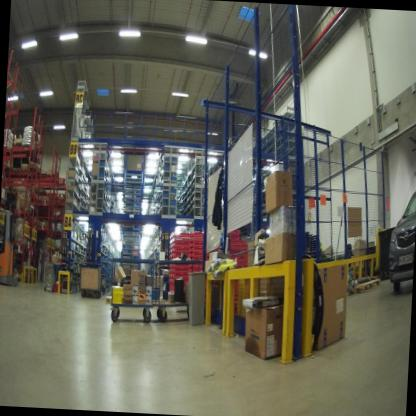forklift: (0, 187, 23, 289)
pallet: (349, 276, 381, 300), (18, 166, 36, 180), (22, 143, 36, 159), (3, 159, 13, 172), (16, 140, 24, 156), (41, 198, 51, 209), (39, 222, 49, 231), (12, 165, 20, 174)
small_load_carrier: (227, 246, 251, 268), (165, 277, 189, 295), (168, 231, 193, 240), (50, 281, 65, 294), (168, 251, 189, 260), (168, 238, 191, 246), (167, 272, 189, 280), (169, 243, 191, 251), (169, 247, 190, 255), (191, 256, 206, 267), (191, 229, 206, 239), (168, 268, 189, 275), (168, 264, 190, 270), (192, 243, 208, 251), (192, 249, 208, 257), (189, 266, 205, 272), (193, 237, 206, 243)
